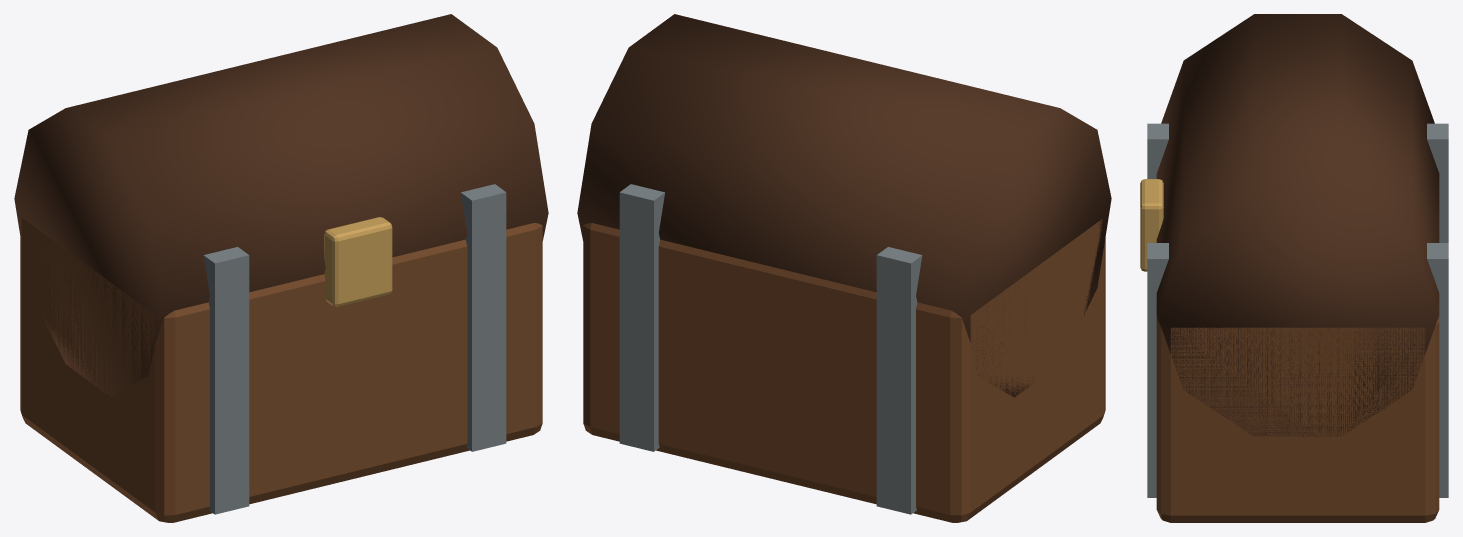
The model's file is chest.glb.
3 views of the same model, side by side, from view 1: azimuth 30°, elevation 25°; view 2: azimuth 150°, elevation 25°; view 3: azimuth 270°, elevation 25° (orthographic). The views are drawn at different scales.
Visible parts, largest first — view 1: chest; view 2: chest; view 3: chest.
Boxes of the visible parts, <box> form: chest: <box>14,14,548,522</box>; chest: <box>577,14,1111,522</box>; chest: <box>1140,14,1448,522</box>.
Bounding box in the file's own units: 0.9 × 0.7853 × 0.655.
